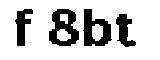8: (46, 3, 81, 52)
b: (82, 5, 112, 51)
f: (10, 7, 37, 49)
t: (112, 9, 141, 48)
